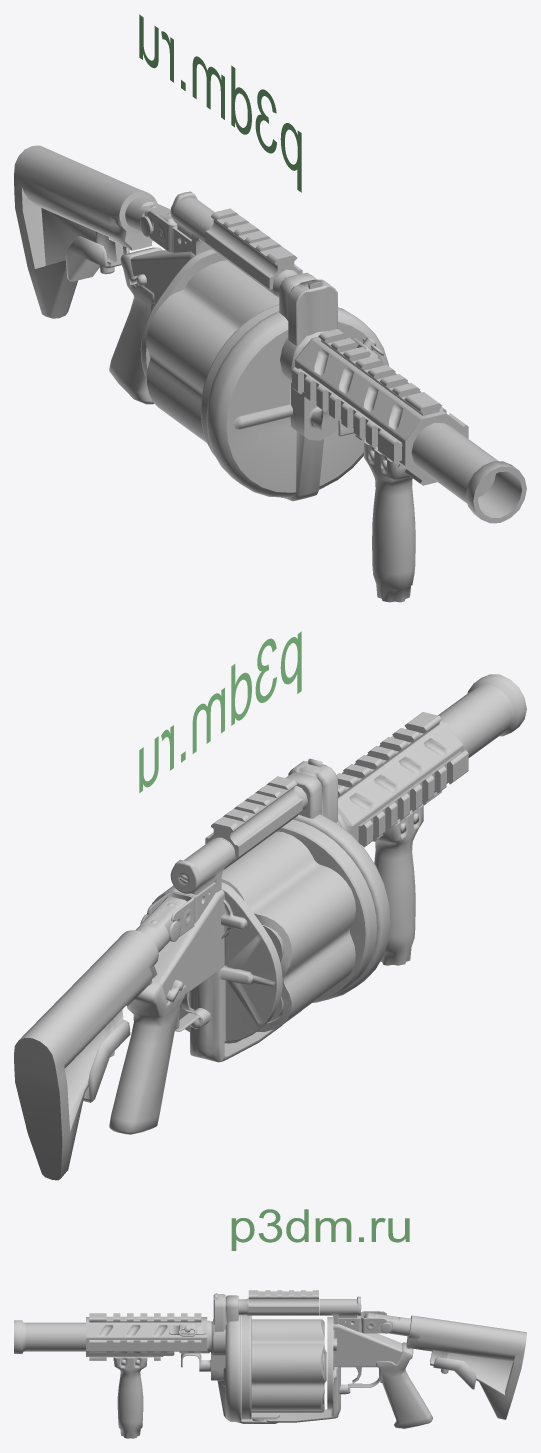
The model's file is Grenade Launcher.obj.
The picture shows the model from 3 angles, top to bottom: view 1: azimuth 30°, elevation 25°; view 2: azimuth 150°, elevation 25°; view 3: azimuth 270°, elevation 25°; orthographic projection. The views are drawn at different scales.
Visible parts, largest first — view 1: SK_Wpn_GrenadeLauncher_01, Text001; view 2: SK_Wpn_GrenadeLauncher_01, Text001; view 3: SK_Wpn_GrenadeLauncher_01, Text001.
Part boxes in pixels (x1,y1,x2,y2): SK_Wpn_GrenadeLauncher_01: (14,145,526,602); Text001: (139,14,301,192); SK_Wpn_GrenadeLauncher_01: (14,674,526,1180); Text001: (139,631,301,792); SK_Wpn_GrenadeLauncher_01: (14,1290,526,1438); Text001: (231,1209,409,1250).
Size of the model in its own units: 8.26 by 18.45 by 38.
